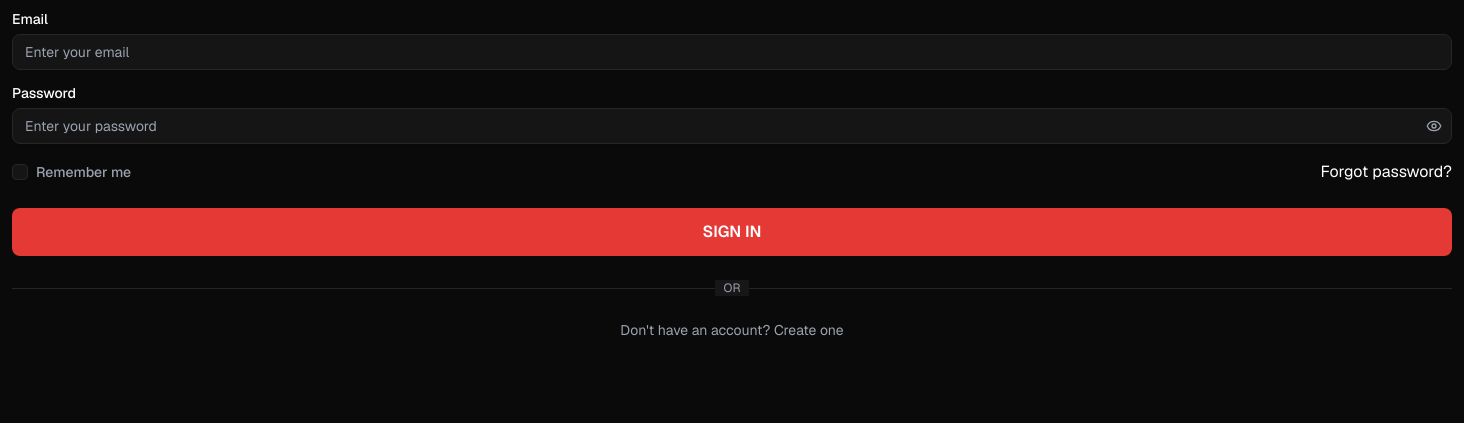
Scenario: LoginForm › error handling › shows unverified email message for 403 response
In the field labelled "Email": (732, 52) [12,34,1452,70], type "test@test.com"
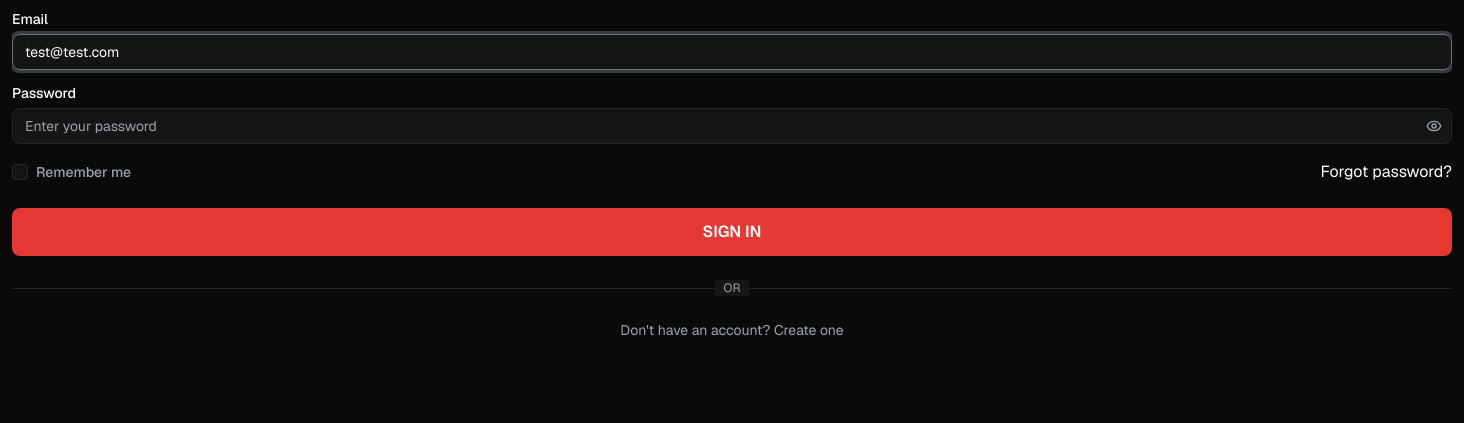
In the password field labelled "Password": (732, 126) [12,108,1452,144], type "wrong"
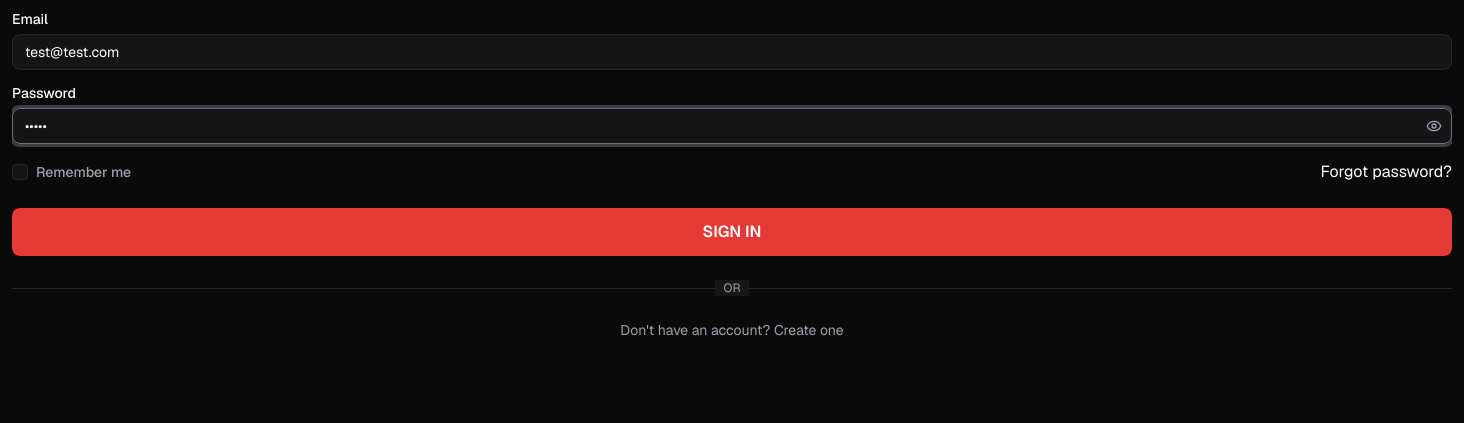
Click the button "SIGN IN": click(732, 232) [12,208,1452,256]
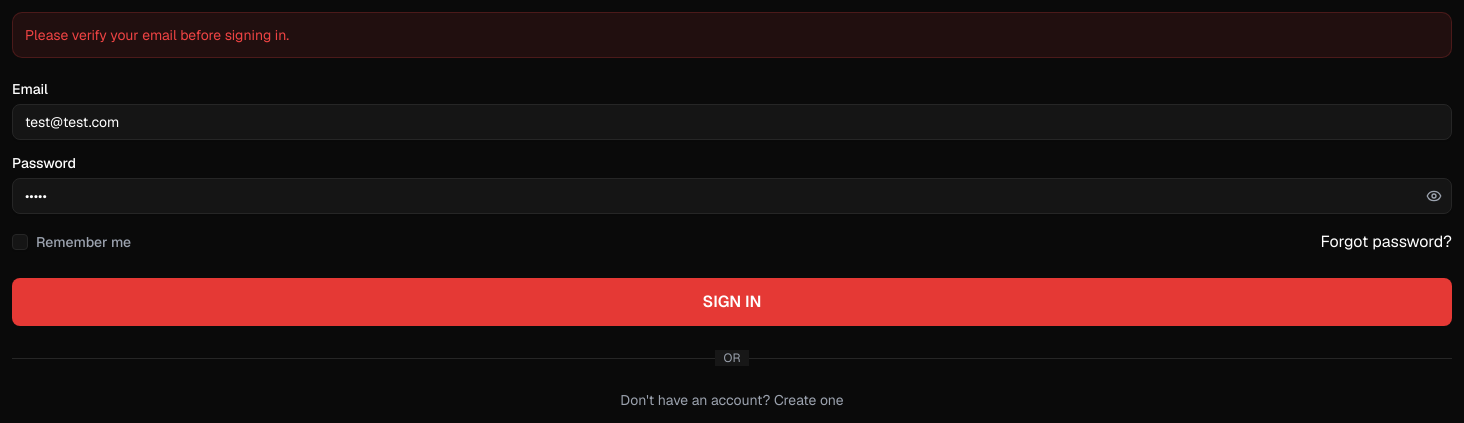
Now the text "Please verify your email before signing in." is shown, box [12,12,1452,58]
